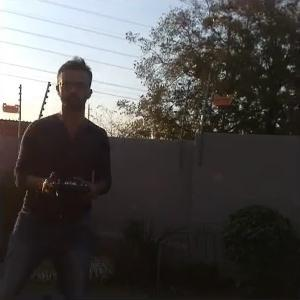follow: (0, 53, 111, 298)
